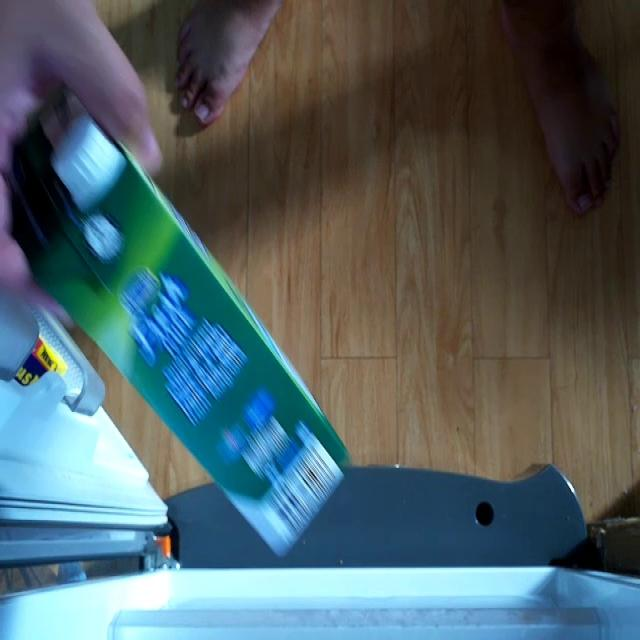milk: (1, 99, 350, 554)
